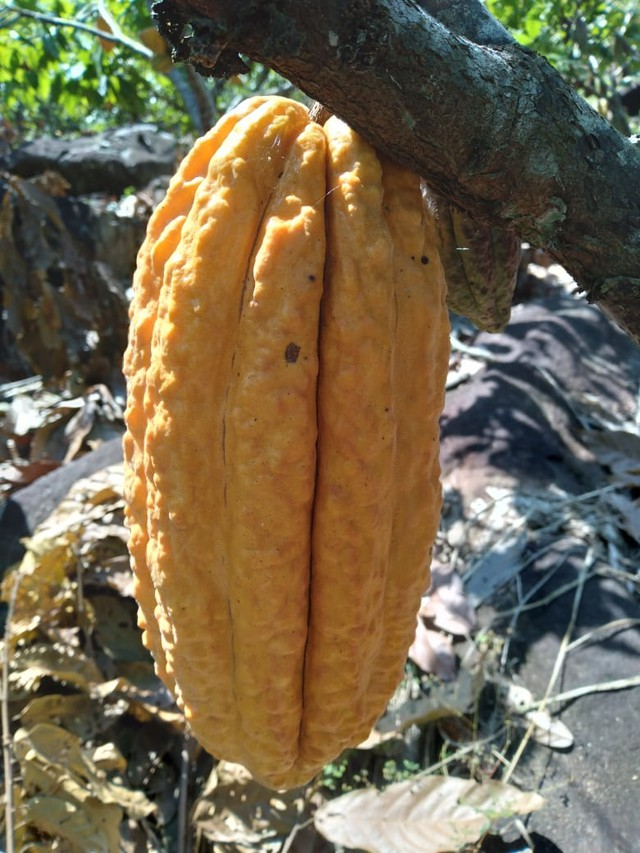Health: (113, 91, 459, 800)
